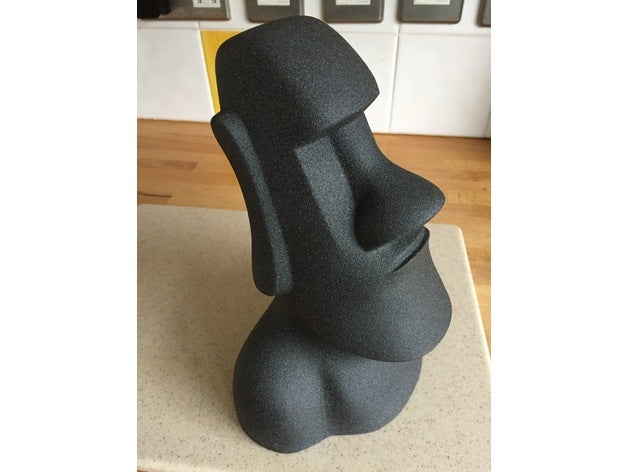Good: (188, 11, 470, 458)
